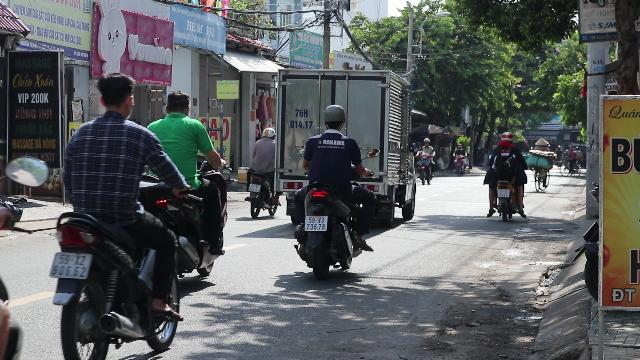helmet: (321, 104, 347, 130)
licenseplate: (50, 253, 90, 278), (305, 216, 327, 231), (248, 184, 260, 190)
motorcyclist: (46, 70, 196, 358), (140, 89, 230, 289), (288, 102, 377, 278)
nohelmet: (94, 72, 138, 118), (162, 89, 192, 117)
